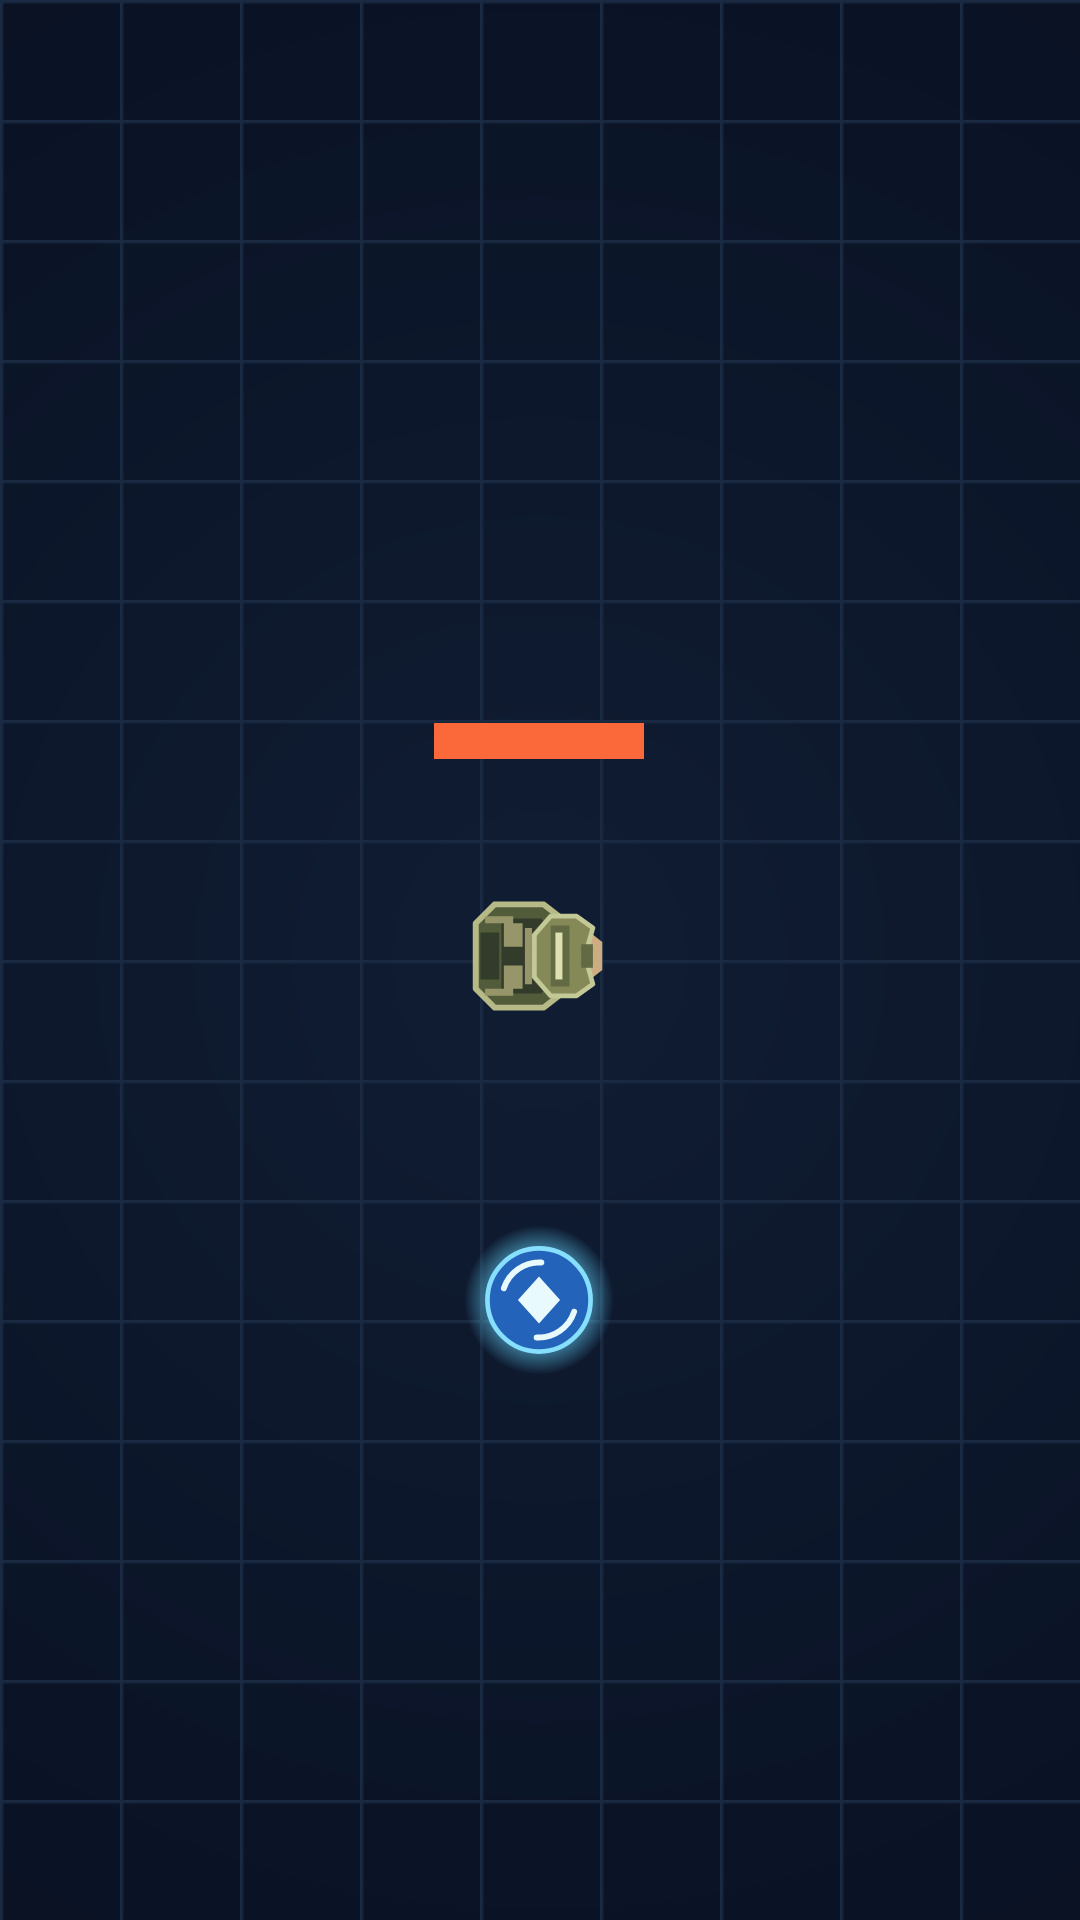

Icons on this 1080px×1920px Android screen, each with the point to tap as [x,y]:
map attack orb: [539,1300]
map soldier: [537,956]
